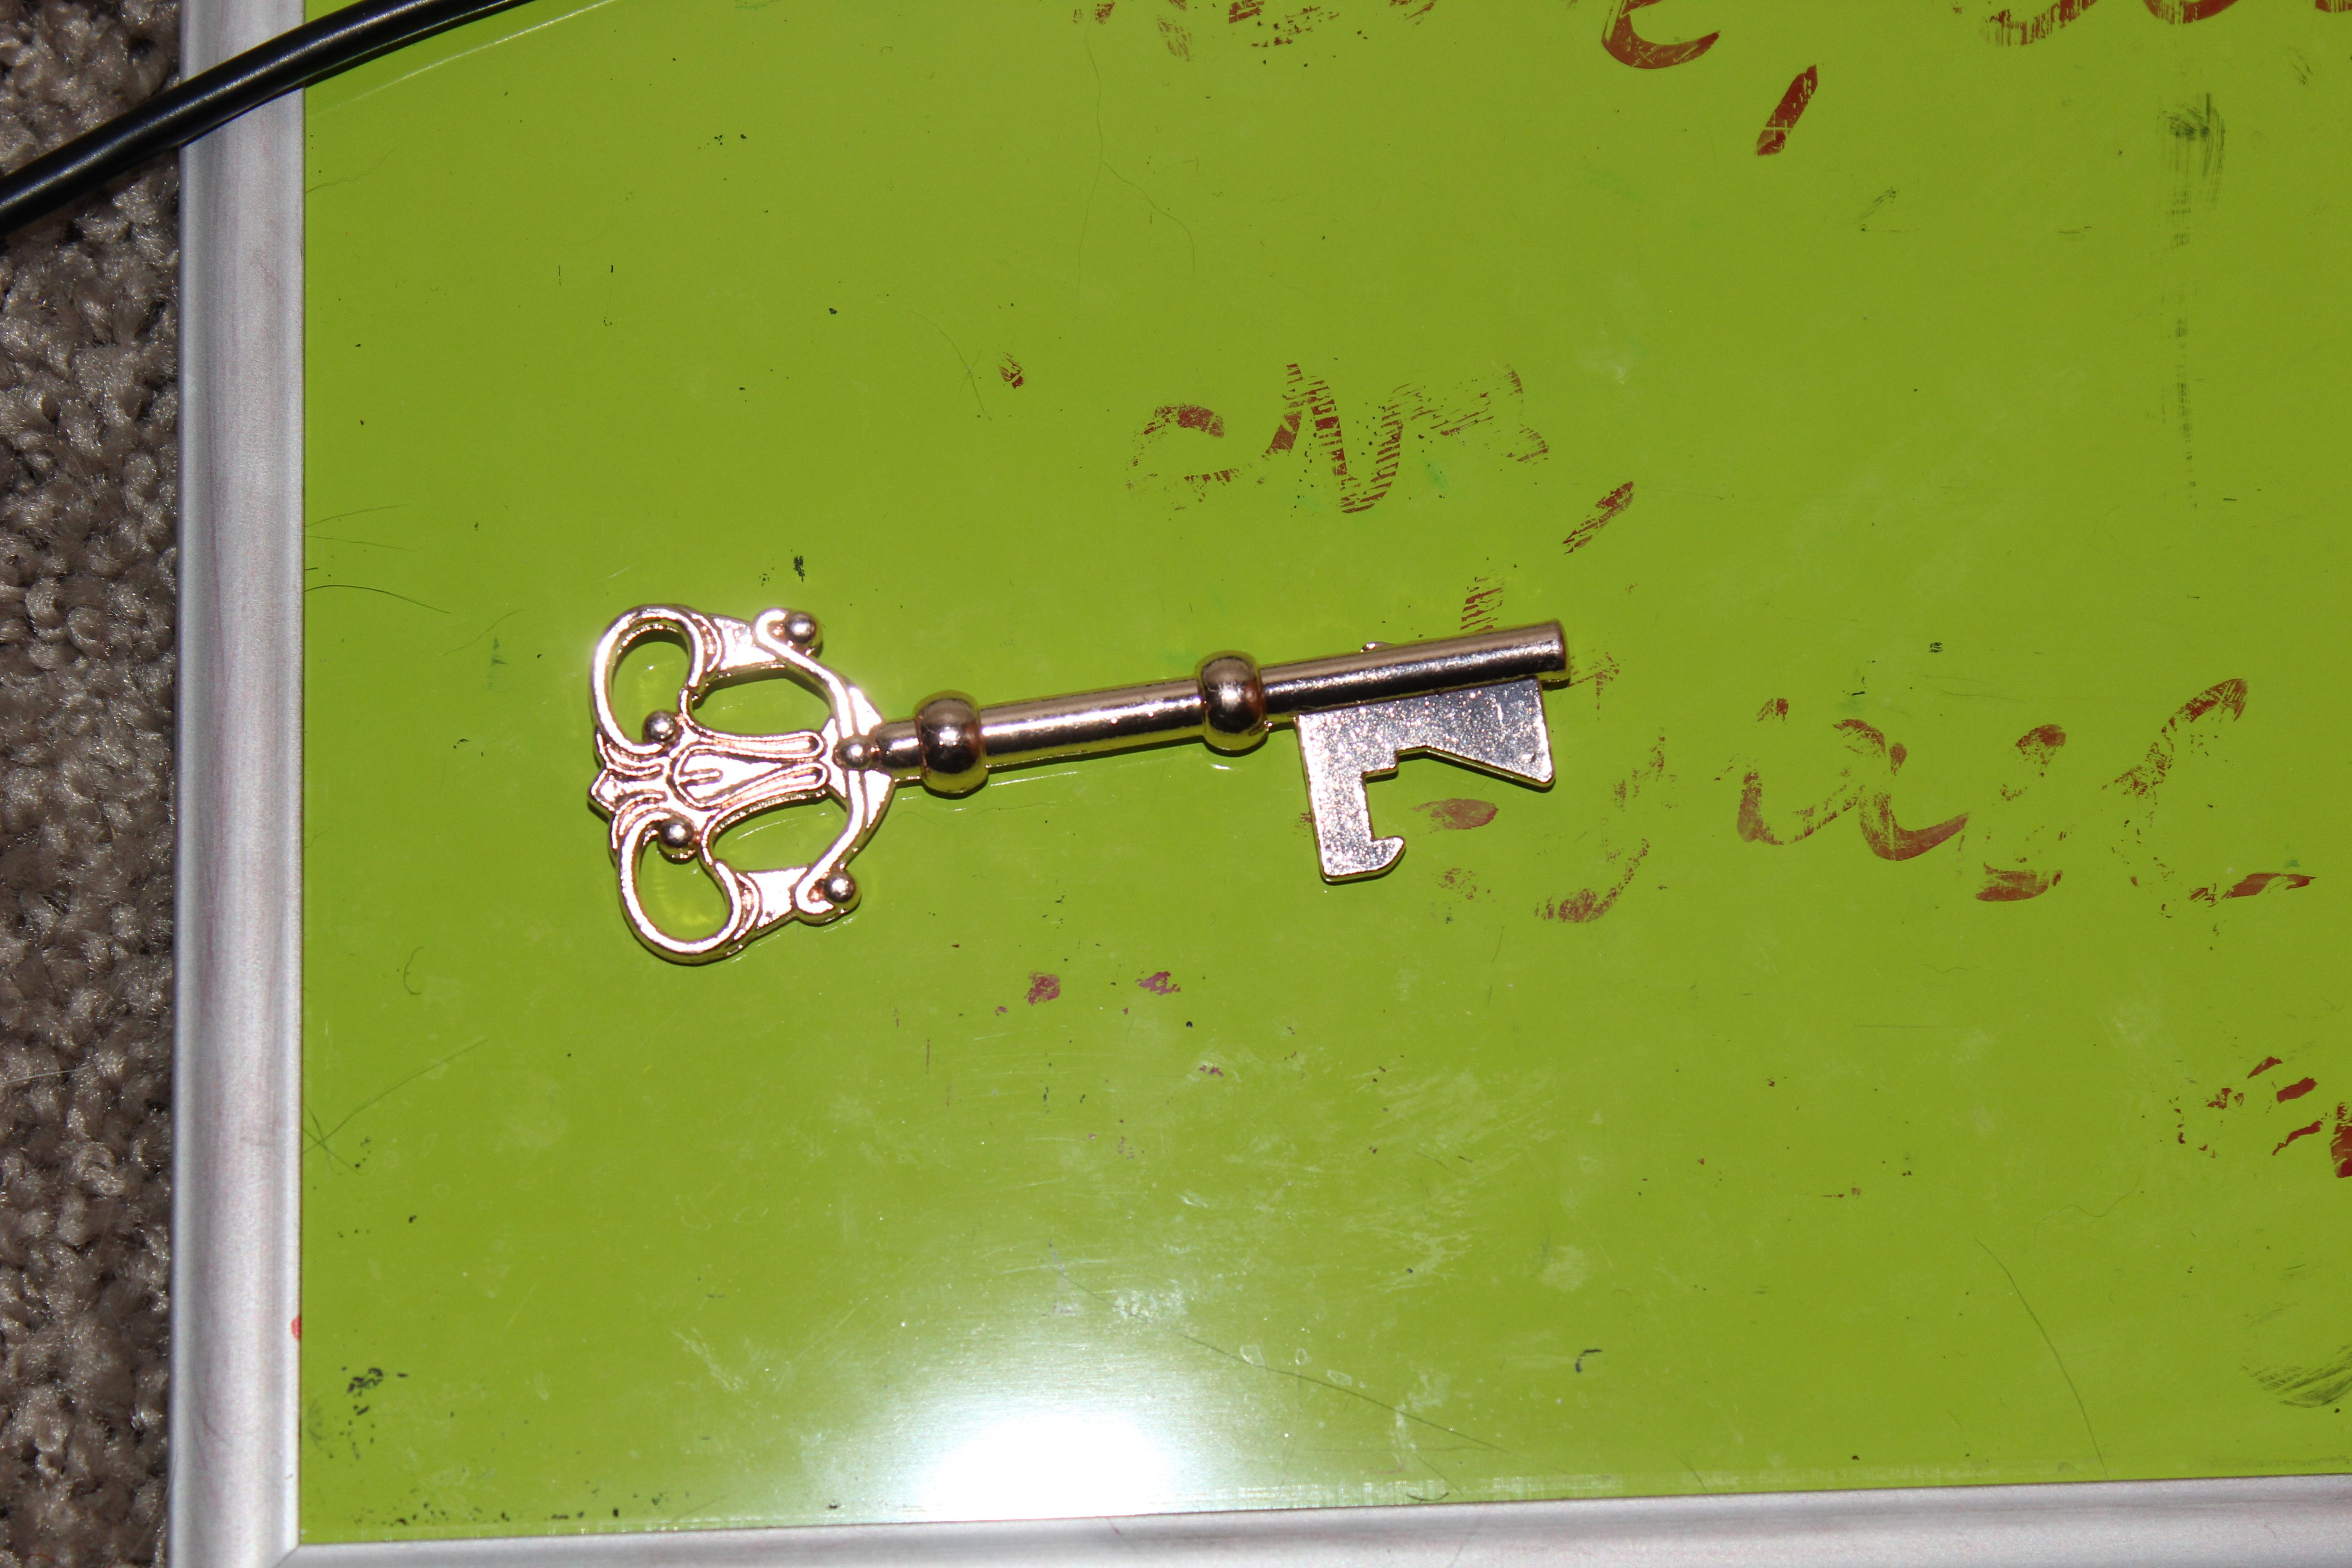metalKey: (534, 544, 1608, 999)
